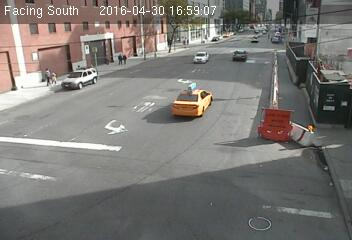neg: (70, 59, 90, 86), (125, 27, 141, 49), (95, 47, 111, 68), (86, 45, 98, 61), (167, 47, 176, 59), (159, 19, 165, 28), (162, 34, 168, 42)
pos: (38, 67, 53, 86), (49, 71, 59, 84), (121, 53, 130, 65), (115, 53, 124, 65)
